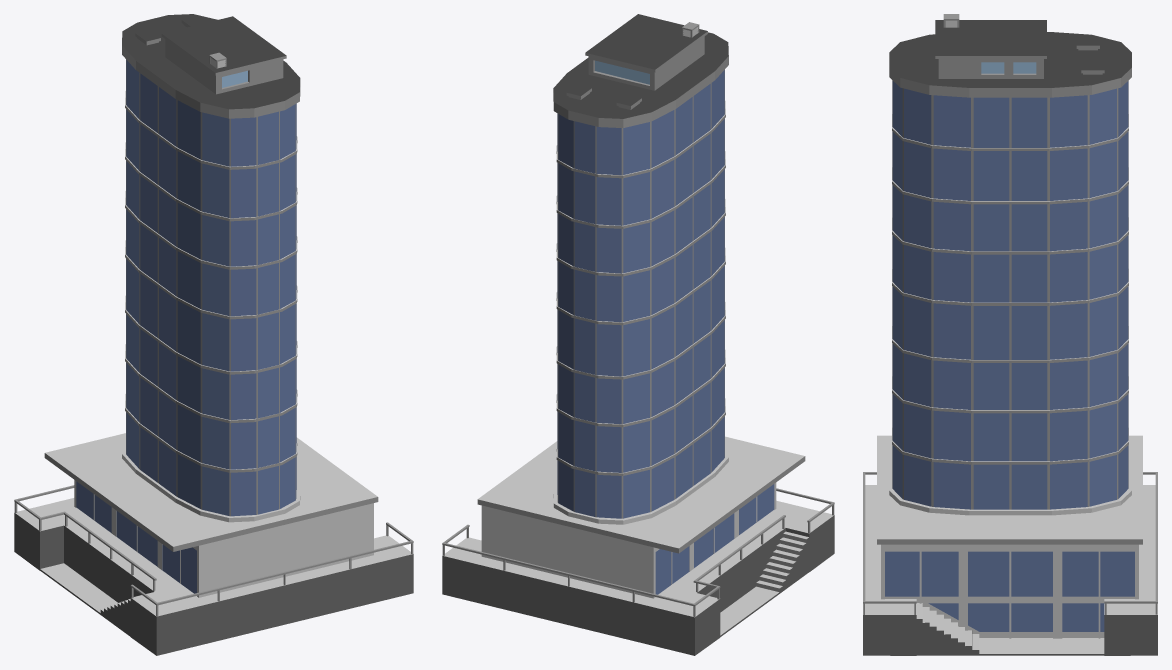
File: city6.obj
The picture shows the model from 3 angles, left to right: view 1: azimuth 30°, elevation 25°; view 2: azimuth 150°, elevation 25°; view 3: azimuth 270°, elevation 25°; orthographic projection. The views are drawn at different scales.
Parts seen in each view (by area): view 1: Plane.049_Plane.586; view 2: Plane.049_Plane.586; view 3: Plane.049_Plane.586.
Boxes of the visible parts, <box> form: Plane.049_Plane.586: <box>14,14,413,655</box>; Plane.049_Plane.586: <box>442,14,834,655</box>; Plane.049_Plane.586: <box>863,14,1157,655</box>.
Size of the model in its own units: 0.0748 by 0.1509 by 0.0717.
Materials: 1 (1 with a texture image).
